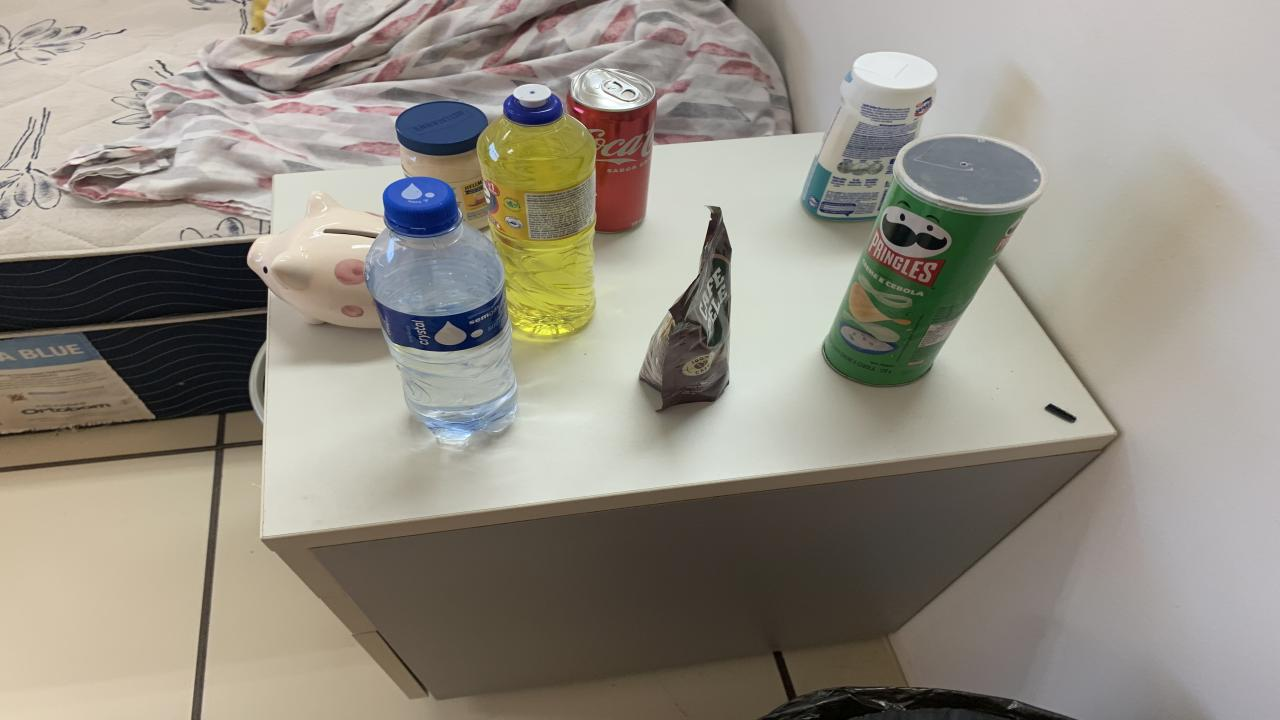Cleaner-Cleanup_Items: (802, 52, 938, 221)
Coffee-Pantry_Items: (640, 206, 732, 409)
Coke-Drinks: (568, 69, 658, 232)
Detergent-Cleanup_Items: (478, 84, 595, 336)
Mayonnaise-Pantry_Items: (395, 101, 488, 229)
Pig_Safe-Miscellaneous: (248, 191, 385, 328)
Pringles-Snacks: (822, 137, 1045, 386)
Water_Bottle-Drinks: (365, 176, 518, 444)
